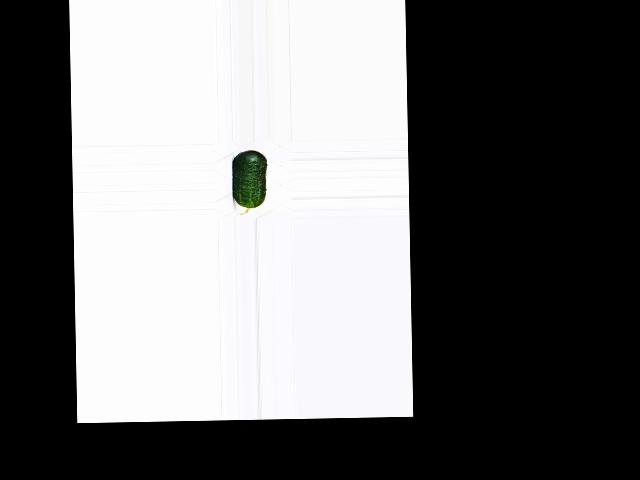cucumber: (232, 150, 267, 215)
